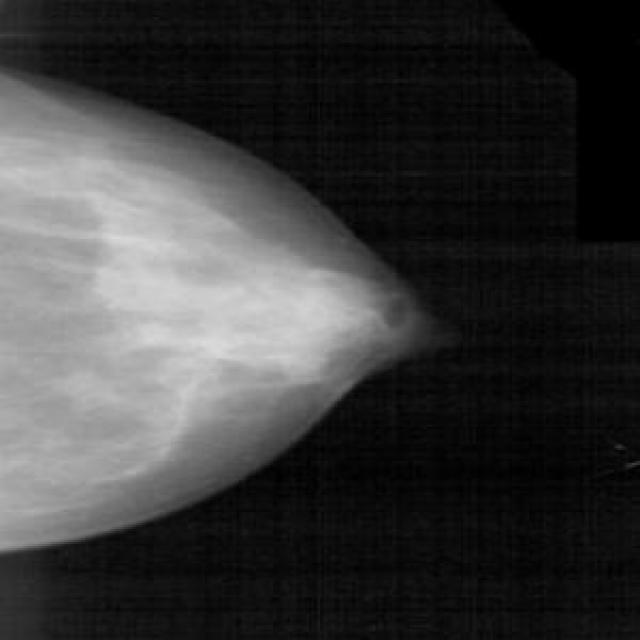tumor: (168, 238, 372, 394)
